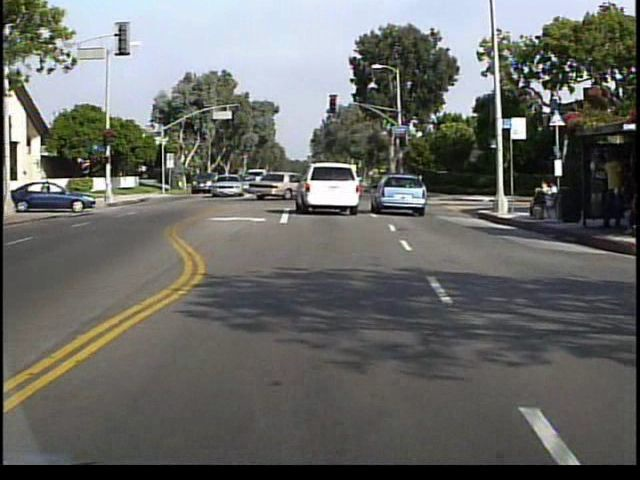person: (528, 178, 549, 217), (547, 178, 558, 216)
